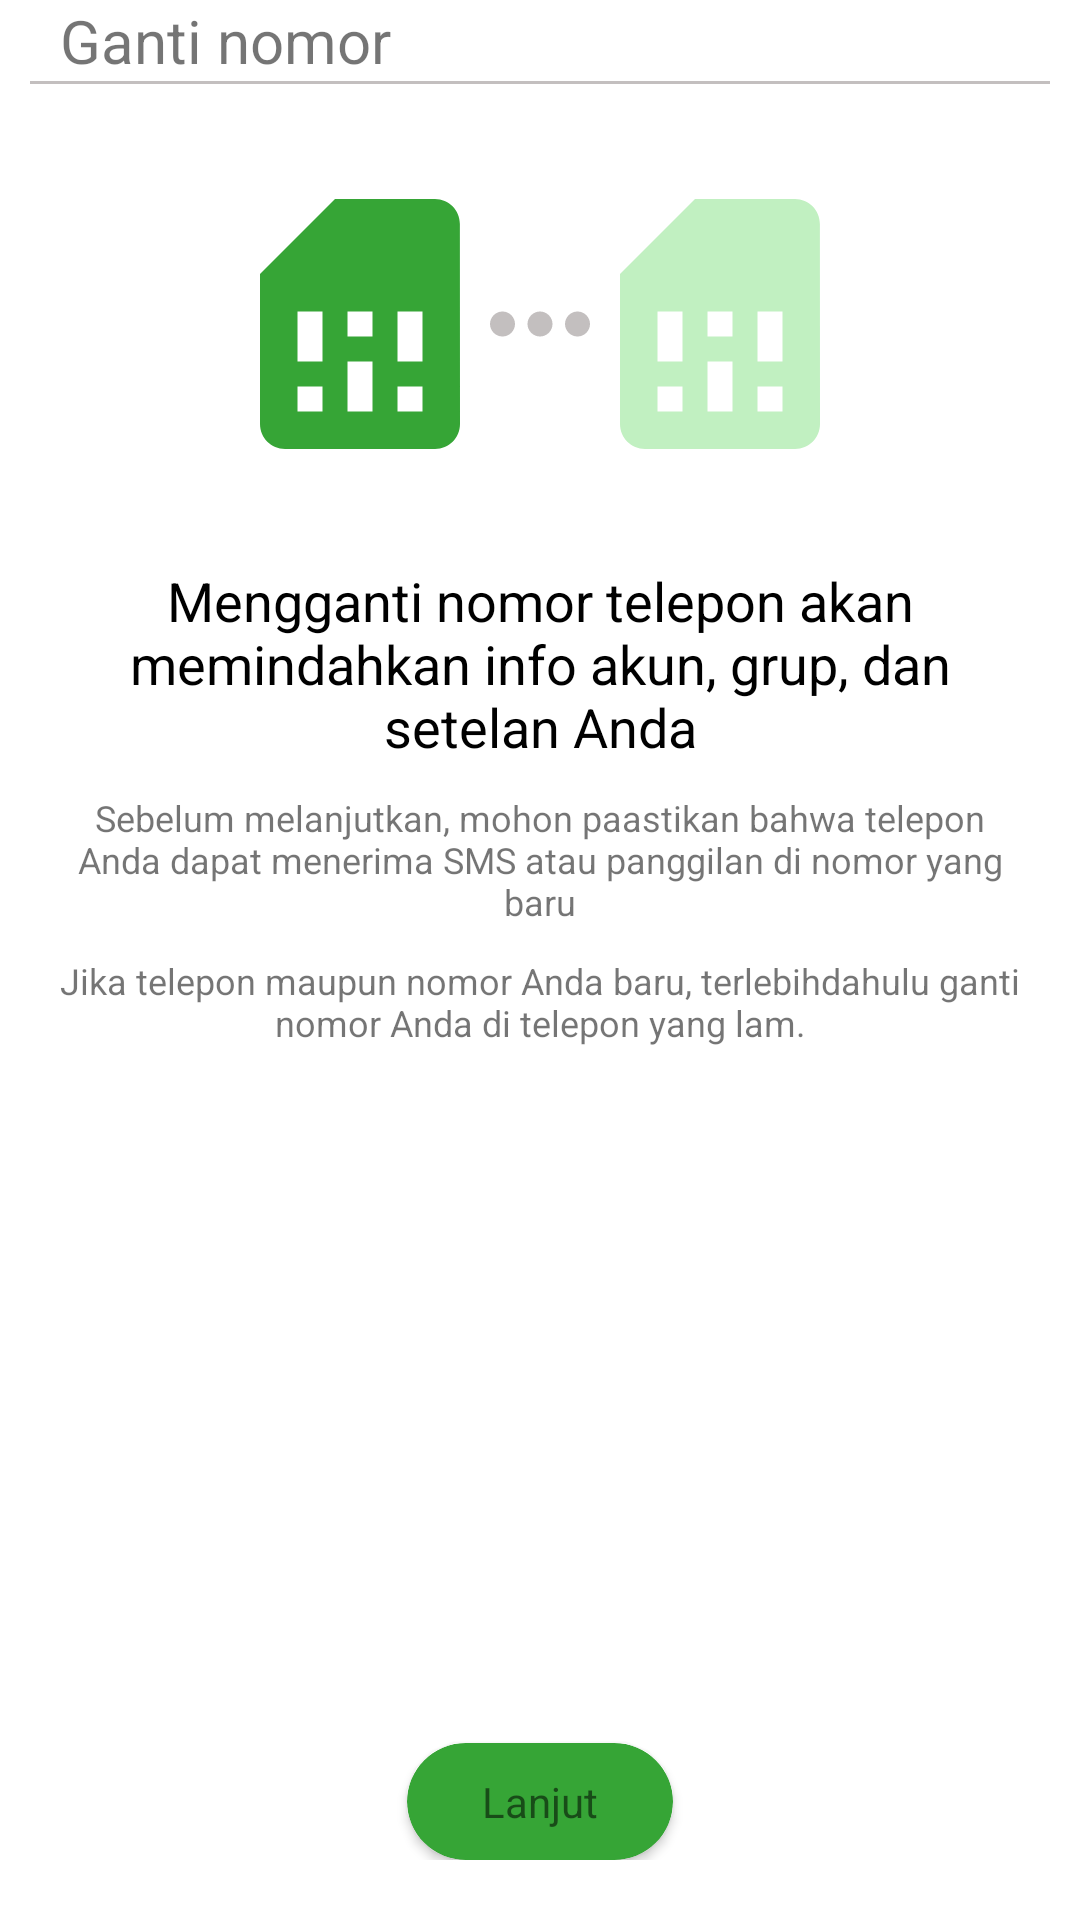

Where icons sit on this 1080 × 1920 app screen, as (x1, y1, x2, y2):
more horiz: (490, 311, 590, 337)
sim card: (260, 199, 460, 449), (620, 199, 820, 449)
